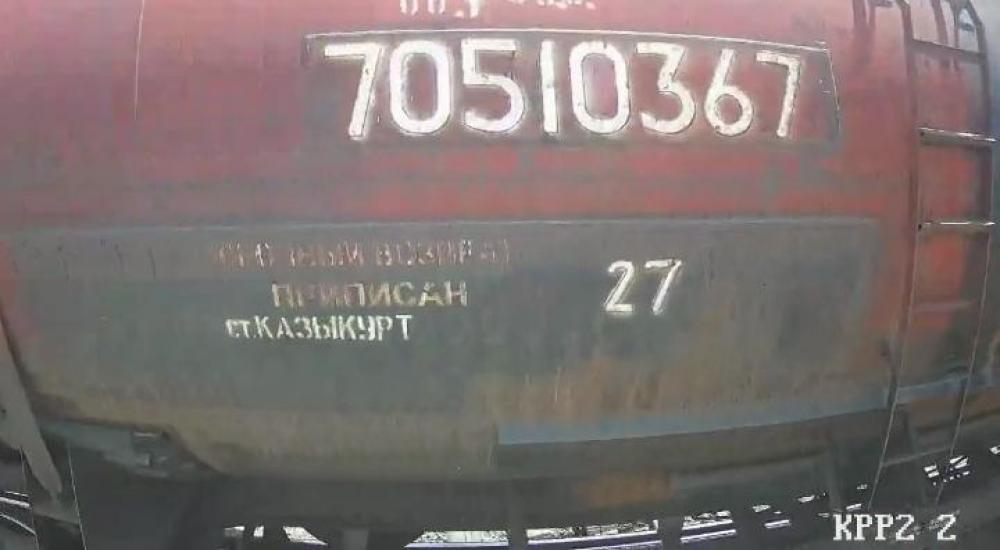Wagon-number: (320, 32, 808, 148)
